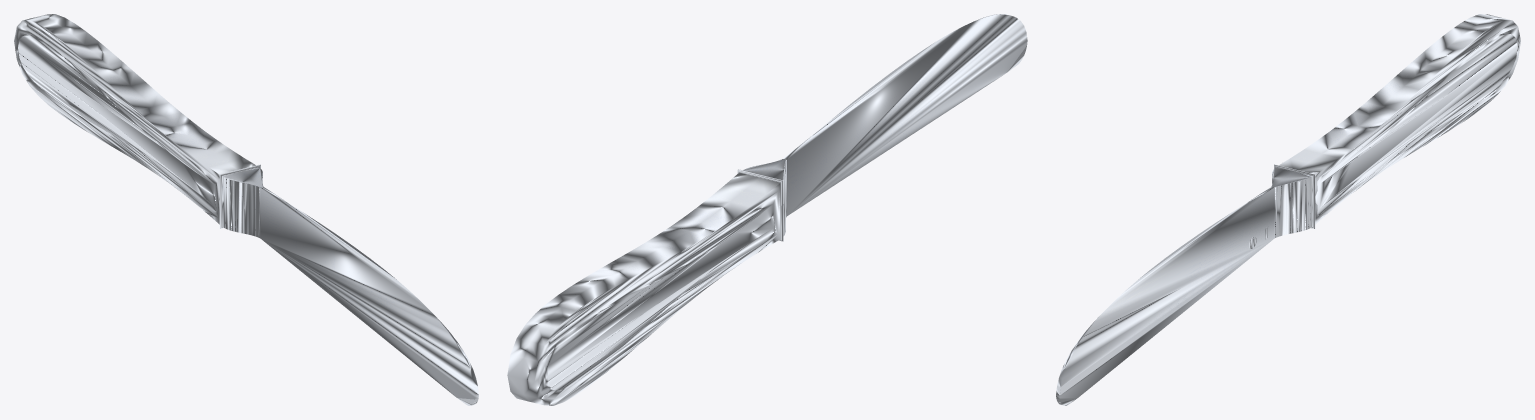
File: model_align.obj
3 views of the same model, side by side, from view 1: azimuth 30°, elevation 25°; view 2: azimuth 150°, elevation 25°; view 3: azimuth 330°, elevation 25° (orthographic). The views are drawn at different scales.
Size of the model in its own units: 0.0119 by 0.0222 by 0.2265.
2 materials, 2 textured.
